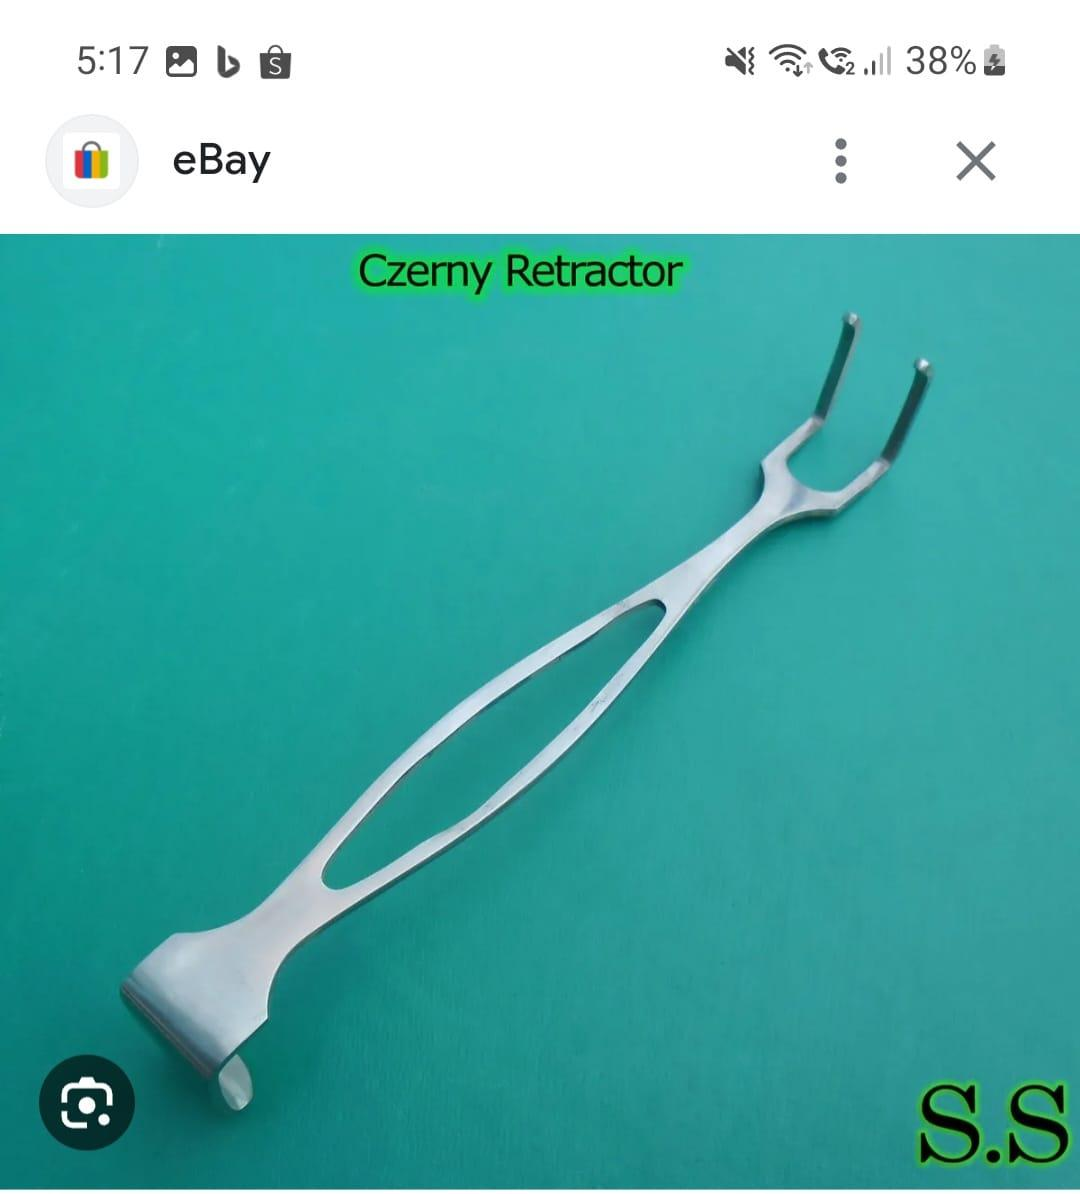Czerney Retractor: (108, 296, 963, 1134)
